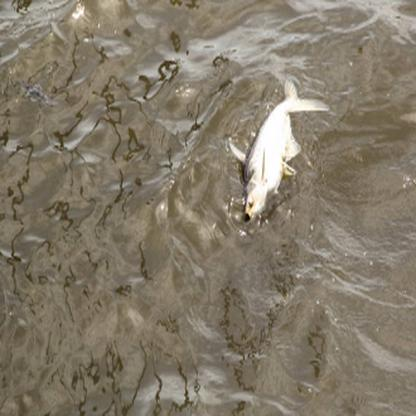deceased fish: (223, 75, 333, 222)
